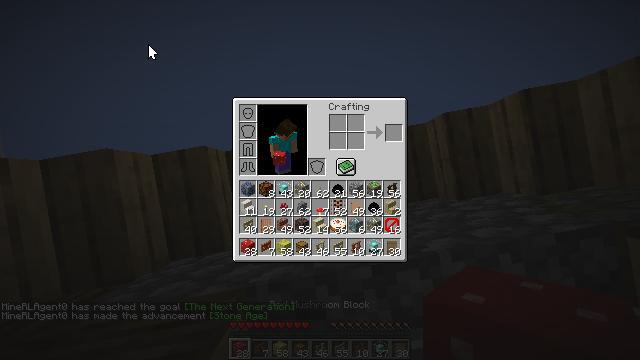cursor: (44, 148, 60, 158)
